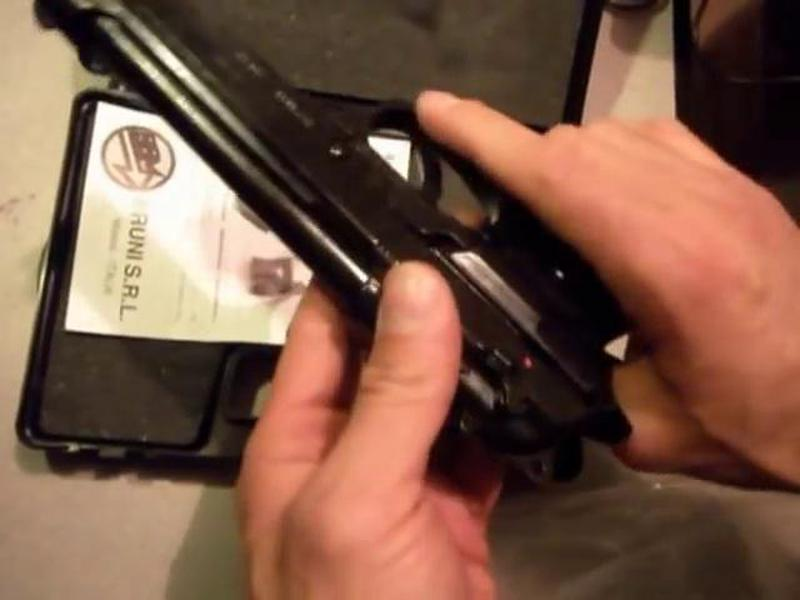Pistola: (85, 6, 649, 483)
